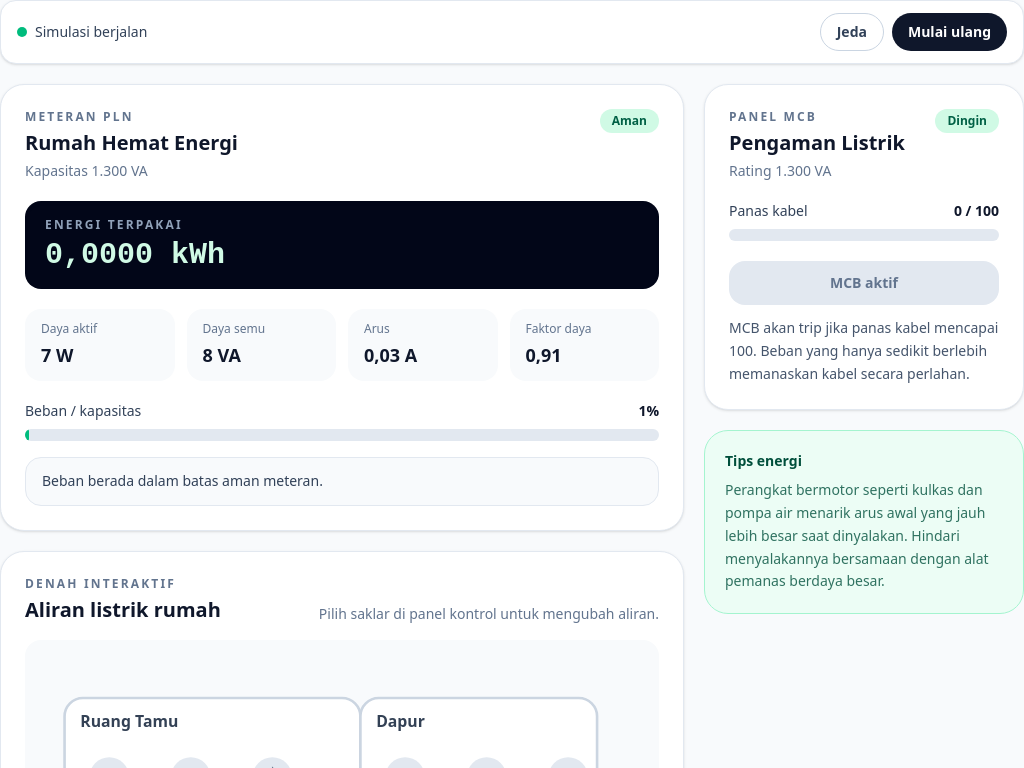
Test: SimulationDashboard › menjeda simulasi tanpa mereset pembacaan
Click the button "Jeda": (852, 32) x1=820 y1=13 x2=884 y2=51
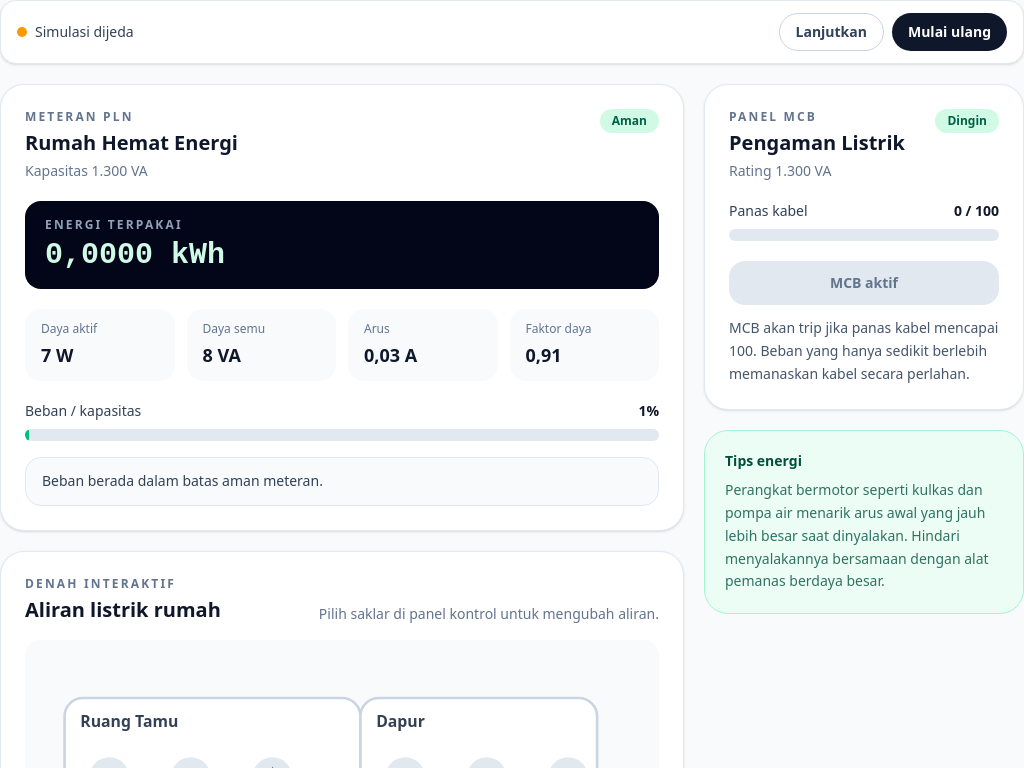
Check: the button "Lanjutkan" is shown
Check: the text "Simulasi dijeda" is shown, box x1=17 y1=22 x2=134 y2=42
Click the button "Lanjutkan": (831, 32) x1=778 y1=13 x2=884 y2=51
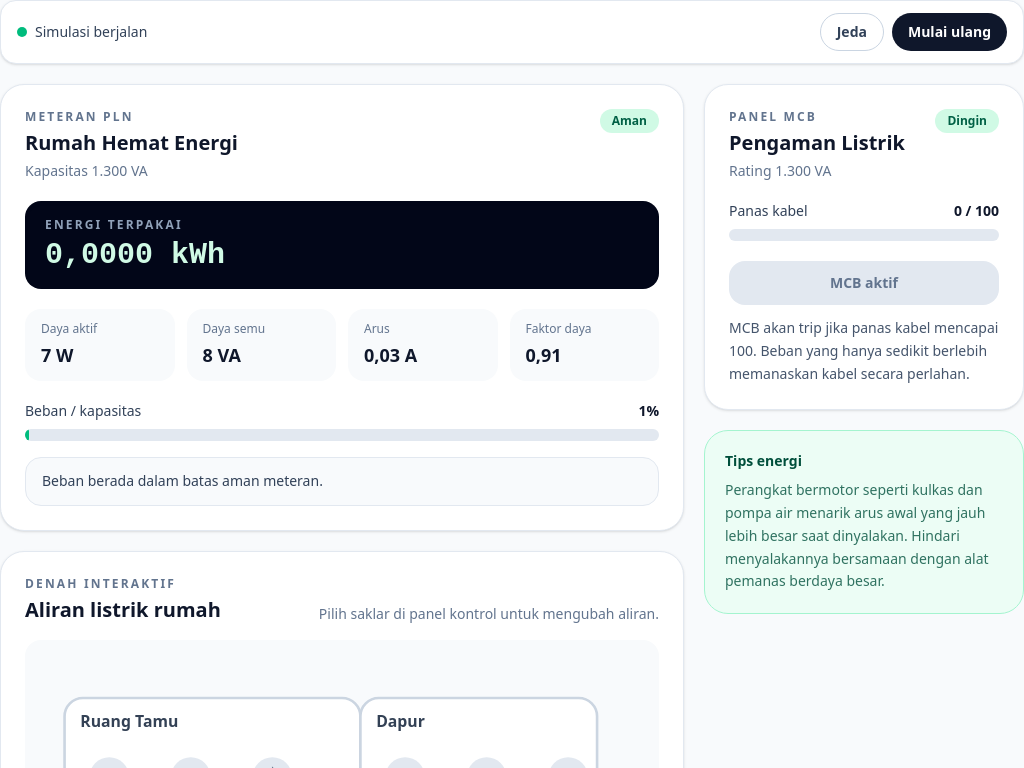
Check: the button "Jeda" is shown, box x1=820 y1=13 x2=884 y2=51
